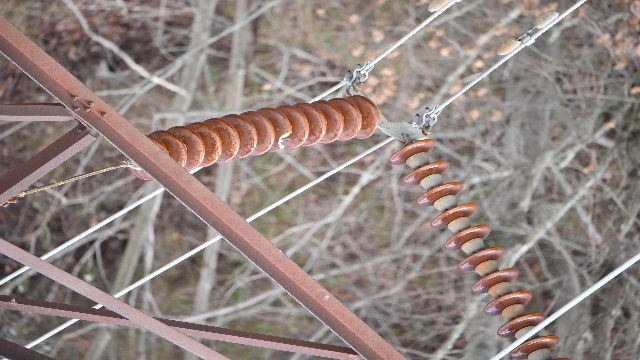broken_local: (276, 131, 295, 153)
insulator_unspecified: (390, 137, 561, 356), (130, 94, 380, 179)
